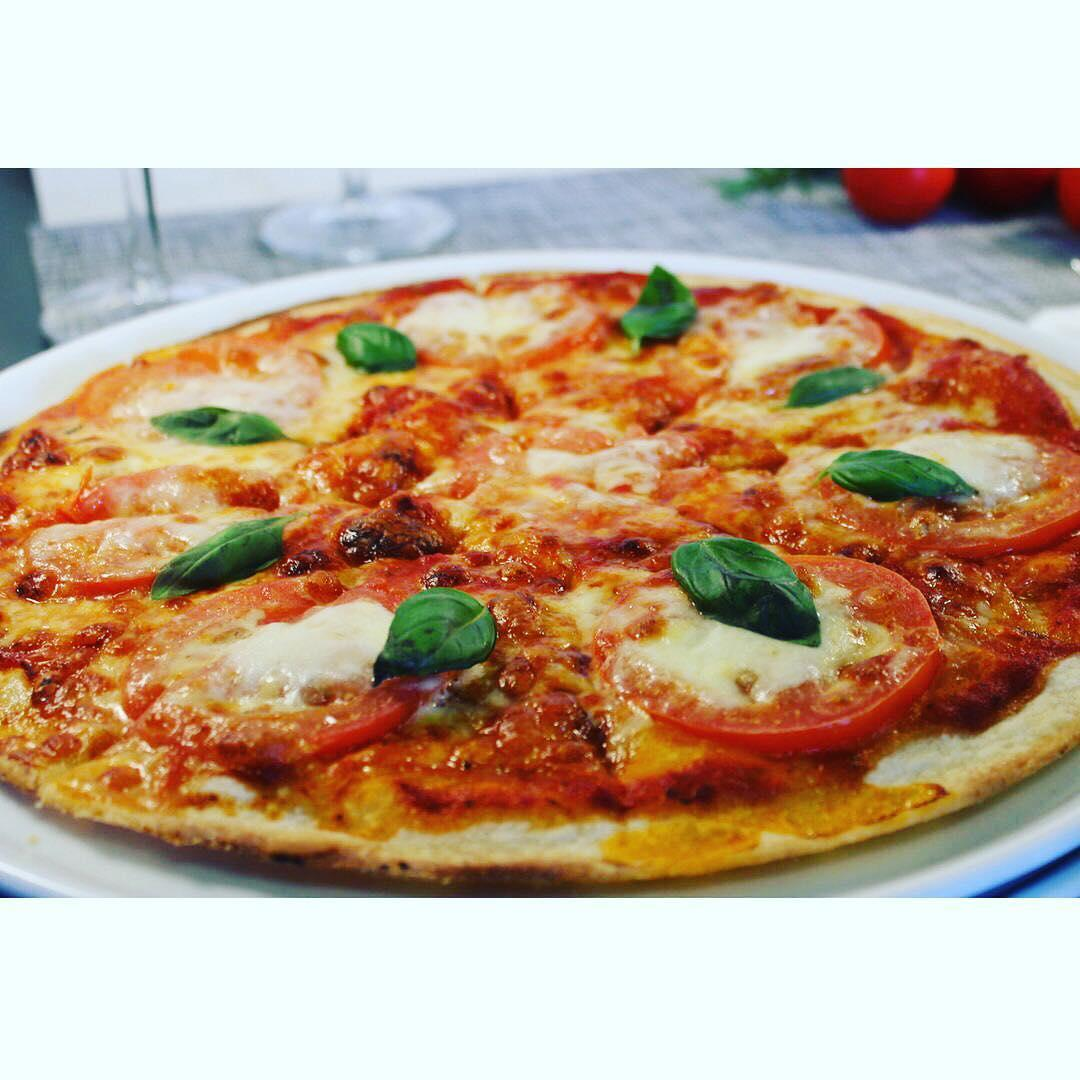Basil: (667, 535, 826, 653), (149, 509, 316, 605), (370, 585, 500, 691), (813, 442, 981, 509), (614, 261, 702, 354), (143, 405, 309, 447), (775, 362, 890, 414), (331, 323, 419, 375)
Pizza: (0, 256, 1080, 888)
Tomatoes: (592, 549, 946, 759), (120, 590, 425, 763), (815, 430, 1080, 562), (7, 477, 220, 591), (681, 297, 891, 391), (395, 285, 604, 362)
